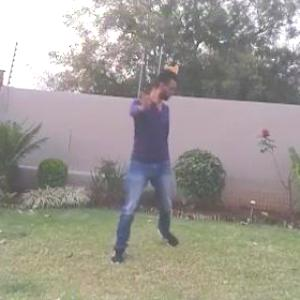takeoff-hand: (130, 79, 155, 114)
